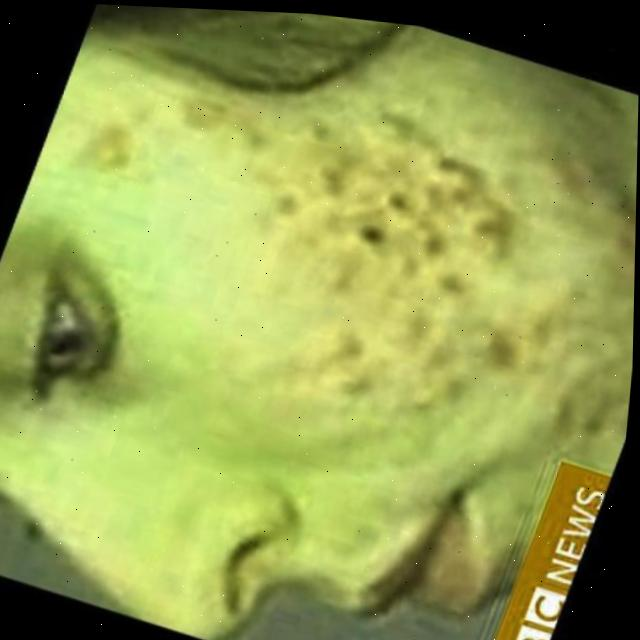Acne: (242, 109, 578, 487)
